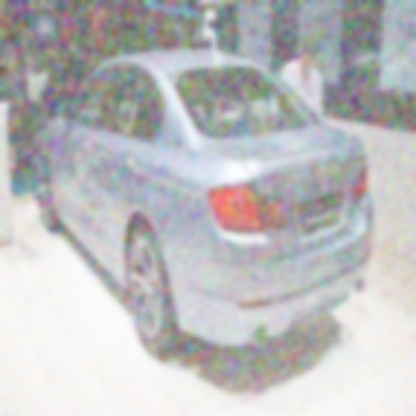Vehicle: (30, 36, 375, 360)
